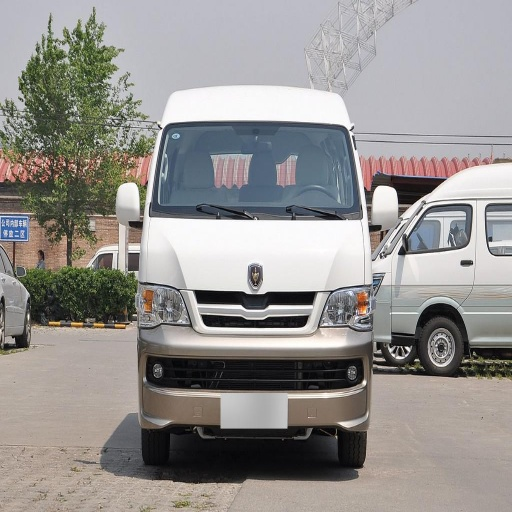front_bumper: (137, 289, 371, 436)
front_right_light: (135, 277, 190, 325)
hood: (146, 219, 364, 293)
